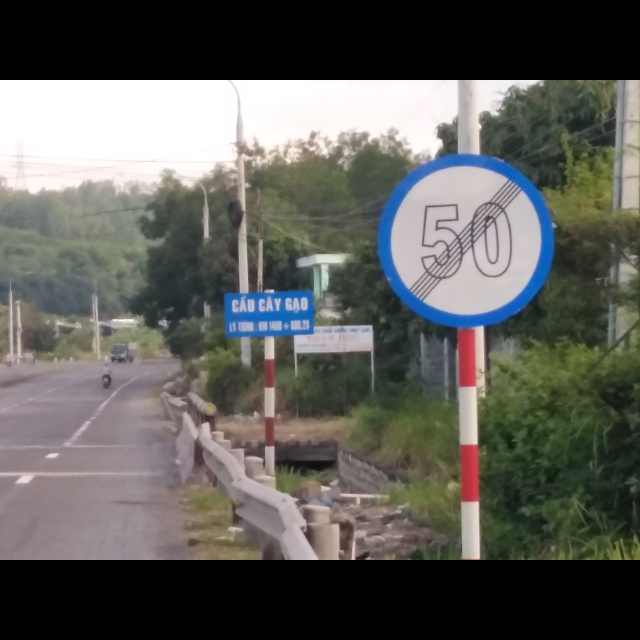Hết hạn chế tốc độ tối đa 50km/h: (376, 153, 557, 330)
